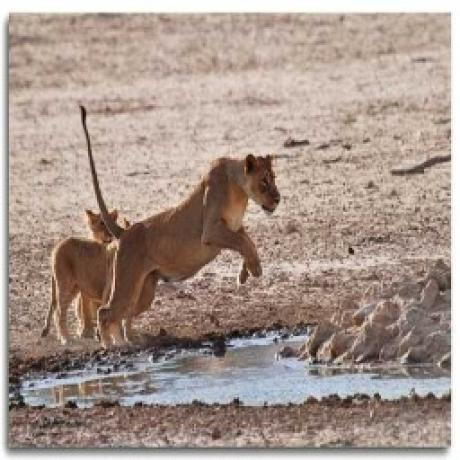Lion: (79, 106, 291, 354), (47, 237, 122, 343), (88, 202, 122, 250)
